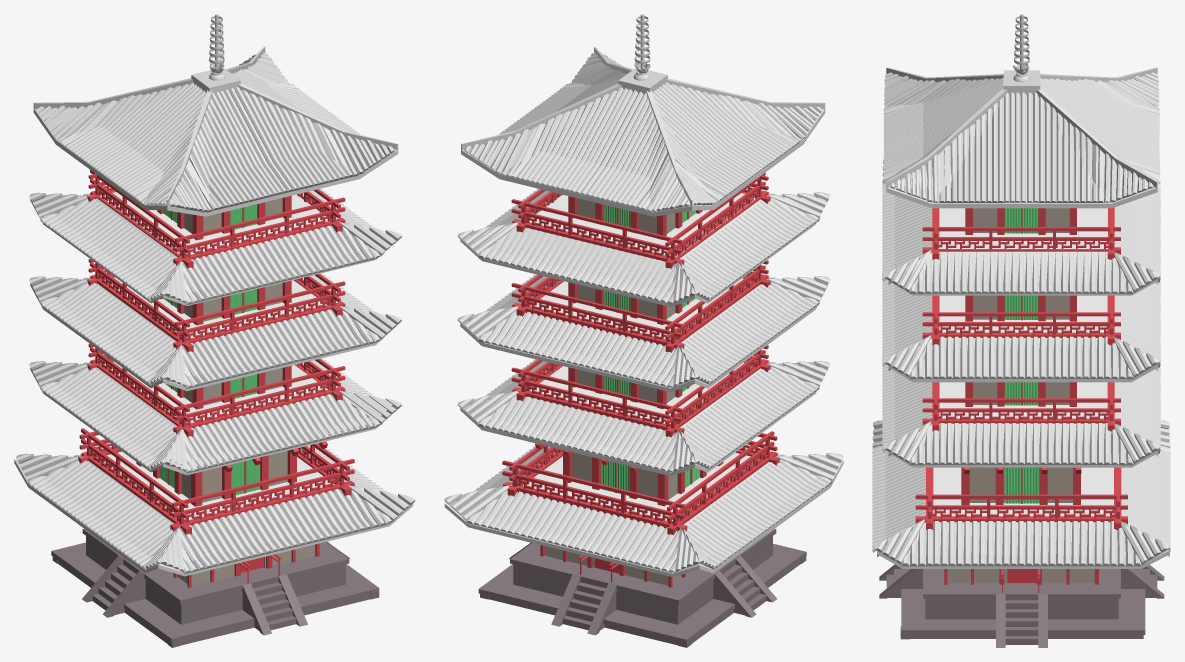
The model's file is pagoda.fbx.
3 renders of one model, left to right at view 1: azimuth 30°, elevation 25°; view 2: azimuth 150°, elevation 25°; view 3: azimuth 270°, elevation 25°, orthographic.
Visible parts, largest first — view 1: Cube.040; view 2: Cube.040; view 3: Cube.040.
Part boxes in pixels (<box>): Cube.040: <box>14,14,415,647</box>; Cube.040: <box>444,14,843,647</box>; Cube.040: <box>872,14,1170,647</box>.
Size of the model in its own units: 789 by 1641 by 775.
